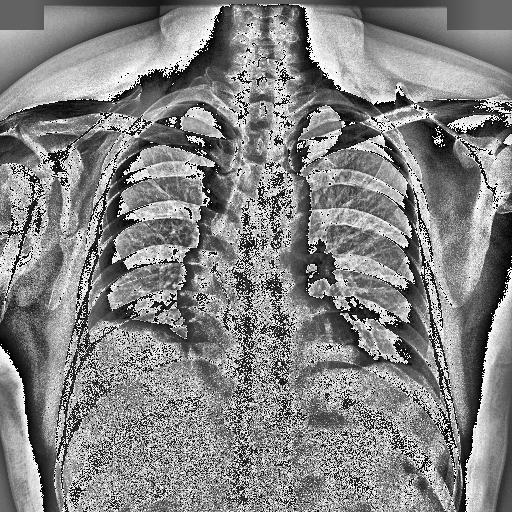10- Pleural effusion: (72, 308, 218, 414), (82, 300, 114, 356)
11- Pleural thickening: (82, 300, 114, 356)
9- Other lesion: (72, 308, 218, 414), (76, 306, 215, 400), (58, 216, 85, 248)
